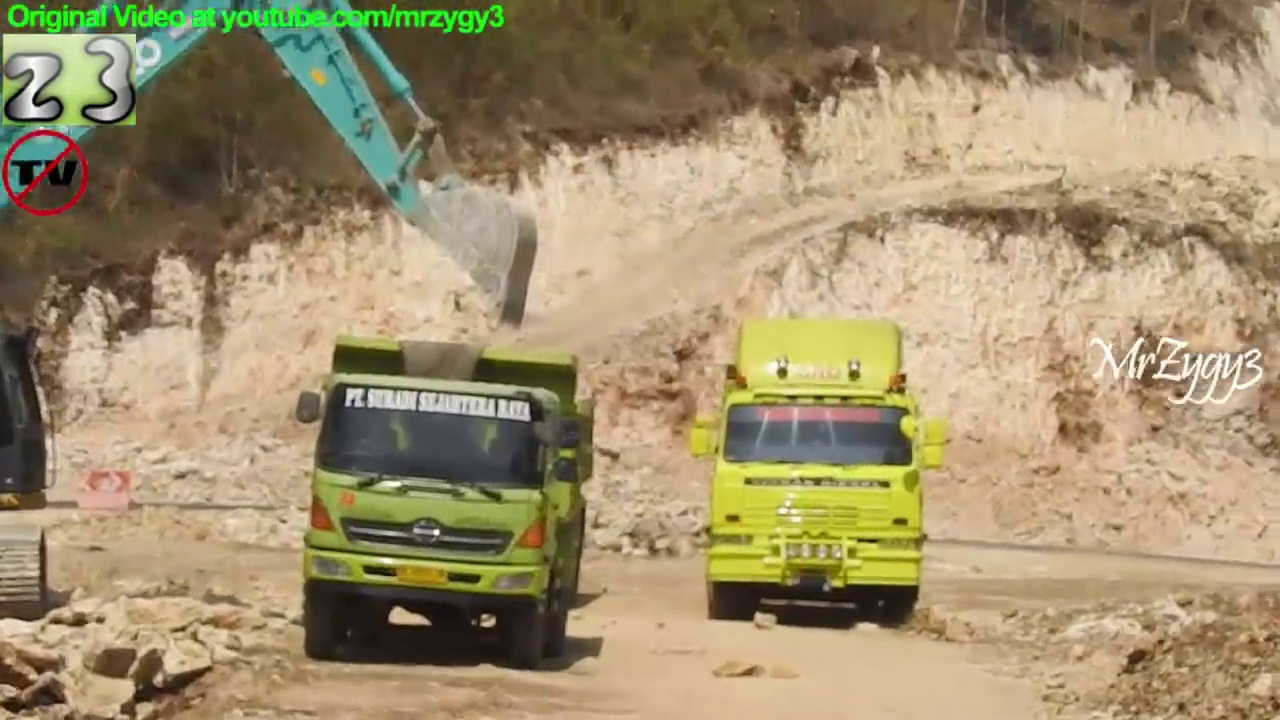excavator: (1, 4, 547, 630)
truck: (289, 333, 598, 675), (688, 314, 946, 628)
